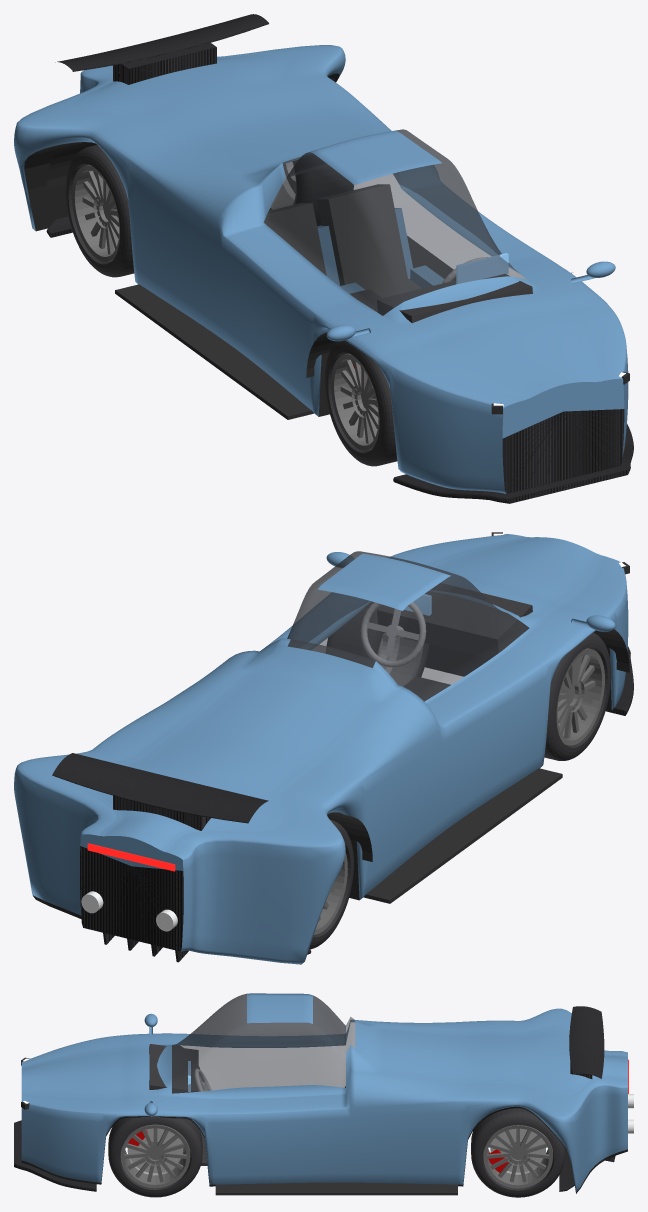
The model's file is audi-r8-v10-performance.glb.
The picture shows the model from 3 angles, top to bottom: view 1: azimuth 30°, elevation 25°; view 2: azimuth 150°, elevation 25°; view 3: azimuth 270°, elevation 25°; orthographic projection. The views are drawn at different scales.
Parts seen in each view (by area): view 1: Body_PrimaryPaint, Glass_Windows, Carbon_Exterior, Interior_Seats, WheelWells, Rim_FR, Rim_RR, Tire_RR, Tire_FR, Underbody, Interior_Dashboard, Interior_SeatBolsters (+2 smaller); view 2: Body_PrimaryPaint, Glass_Windows, Carbon_Exterior, WheelWells, Interior_Dashboard, Rim_FR, Tire_FR, Underbody, Interior_SteeringWheel, Tire_FL, Tire_RR, Rim_RR (+4 smaller); view 3: Body_PrimaryPaint, Glass_Windows, Carbon_Exterior, WheelWells, Tire_RL, Tire_FL, Rim_FL, Rim_RL, Interior_Dashboard, Underbody, BrakeDisc_FL, BrakeDisc_RL.
Boxes of the visible parts, box(x1,y1,x2,y2) form: Body_PrimaryPaint: box(14, 45, 628, 493); Glass_Windows: box(263, 129, 525, 315); Carbon_Exterior: box(46, 14, 633, 503); Interior_Seats: box(263, 184, 421, 297); WheelWells: box(47, 142, 572, 419); Rim_FR: box(331, 353, 379, 450); Rim_RR: box(72, 164, 119, 261); Tire_RR: box(65, 144, 134, 277); Tire_FR: box(325, 340, 397, 466); Underbody: box(24, 73, 339, 416); Interior_Dashboard: box(377, 274, 532, 323); Interior_SeatBolsters: box(317, 208, 444, 293); Body_PrimaryPaint: box(14, 534, 628, 964); Glass_Windows: box(287, 551, 529, 701); Carbon_Exterior: box(52, 646, 633, 962); WheelWells: box(327, 629, 629, 903); Interior_Dashboard: box(377, 583, 532, 658); Rim_FR: box(556, 648, 604, 745); Tire_FR: box(544, 632, 611, 760); Underbody: box(33, 644, 611, 951); Interior_SteeringWheel: box(360, 602, 426, 667); Tire_FL: box(326, 601, 429, 677); Tire_RR: box(309, 819, 353, 949); Rim_RR: box(314, 853, 347, 934); Body_PrimaryPaint: box(21, 993, 627, 1192); Glass_Windows: box(172, 993, 355, 1093); Carbon_Exterior: box(14, 1006, 615, 1191); WheelWells: box(215, 1182, 457, 1195); Tire_RL: box(471, 1108, 565, 1197); Tire_FL: box(108, 1116, 202, 1197); Rim_FL: box(120, 1124, 190, 1188); Rim_RL: box(483, 1125, 552, 1188); Interior_Dashboard: box(149, 1044, 198, 1093); Underbody: box(21, 1106, 627, 1193); BrakeDisc_FL: box(127, 1128, 183, 1175); BrakeDisc_RL: box(490, 1128, 545, 1174).
Size of the model in its own units: 1.95 by 1.23 by 4.53.
Materials: 16 (2 with a texture image).
